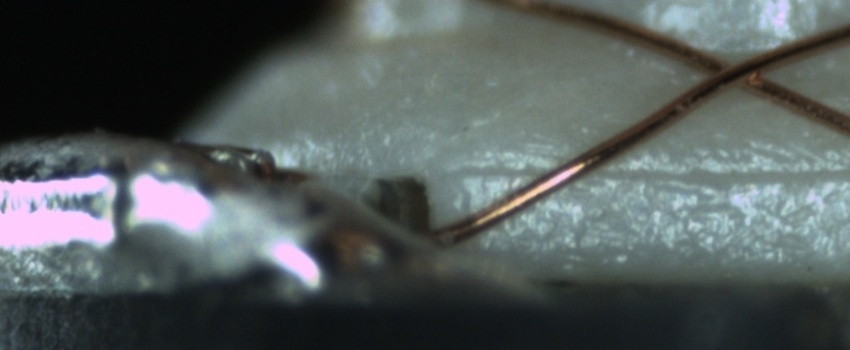CL: (693, 45, 782, 97)
DL: (465, 141, 849, 202)
